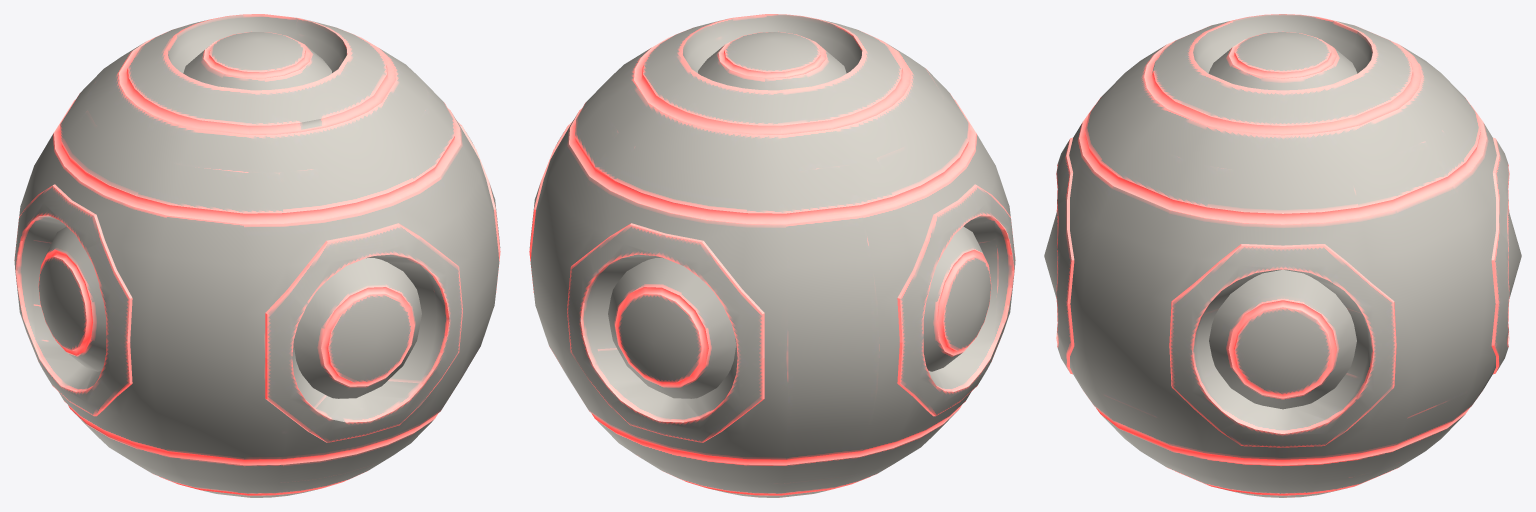
File: Sci-Fi Ball 3D Model.glb
The picture shows the model from 3 angles, left to right: view 1: azimuth 30°, elevation 25°; view 2: azimuth 150°, elevation 25°; view 3: azimuth 270°, elevation 25°; orthographic projection.
Visible parts, largest first — view 1: Sphere014 (×3); view 2: Sphere014 (×3); view 3: Sphere014 (×3).
Boxes of the visible parts, x1,y1,x2,y2 form: Sphere014 (×3): (14, 14, 500, 497); Sphere014 (×3): (529, 14, 1015, 497); Sphere014 (×3): (1044, 14, 1521, 497).
Bounding box in the file's own units: 1.25 × 1.25 × 1.25.
1 material, 1 textured.
